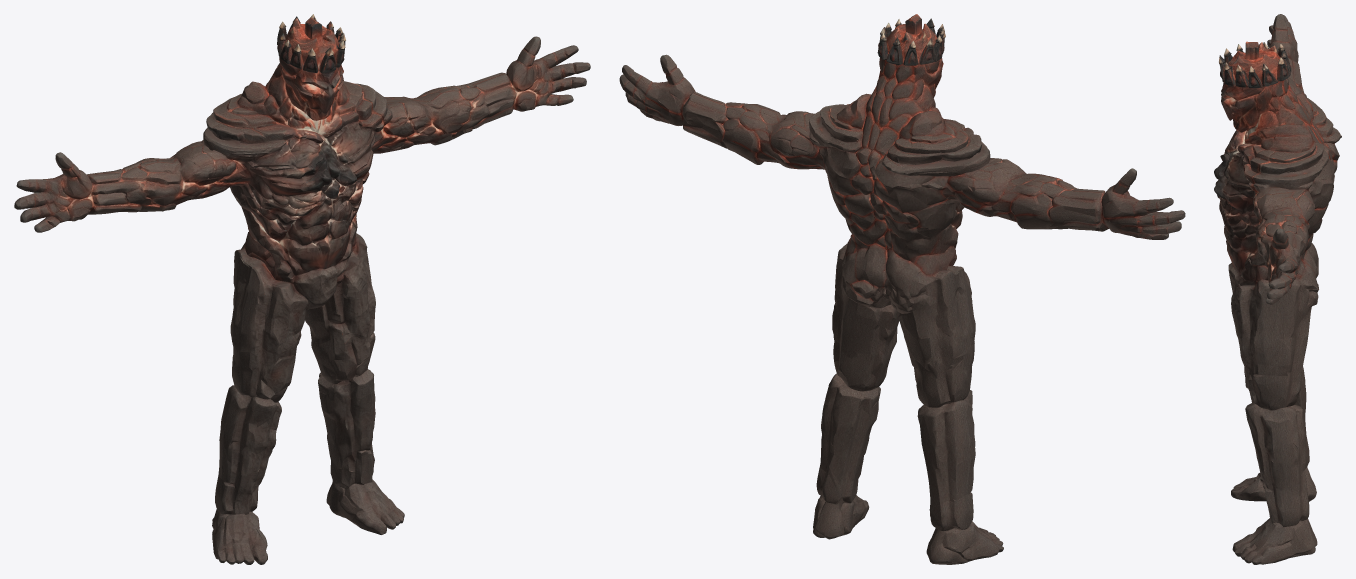
File: VAELTHORN-RIGPROXY.glb
3 renders of one model, left to right at view 1: azimuth 30°, elevation 25°; view 2: azimuth 150°, elevation 25°; view 3: azimuth 270°, elevation 25°, orthographic. The views are drawn at different scales.
Parts seen in each view (by area): view 1: mesh_node; view 2: mesh_node; view 3: mesh_node.
Part boxes in pixels (box(x1,y1,x2,y2)): mesh_node: box(14, 14, 590, 564); mesh_node: box(619, 14, 1185, 564); mesh_node: box(1214, 14, 1341, 564).
Bounding box in the file's own units: 1.9 × 1.65 × 0.397.
1 material, 1 textured.
